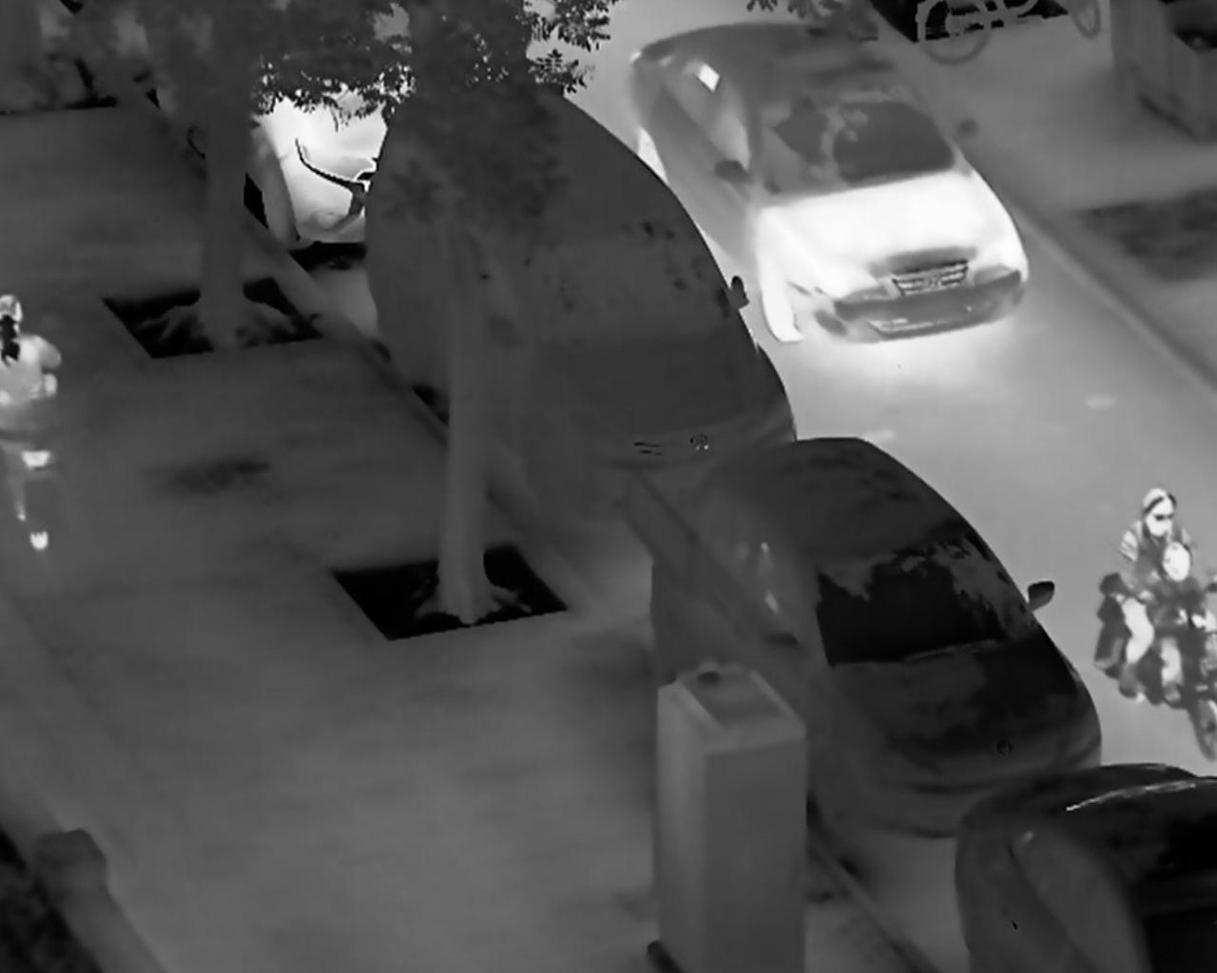person: (1118, 486, 1212, 707)
